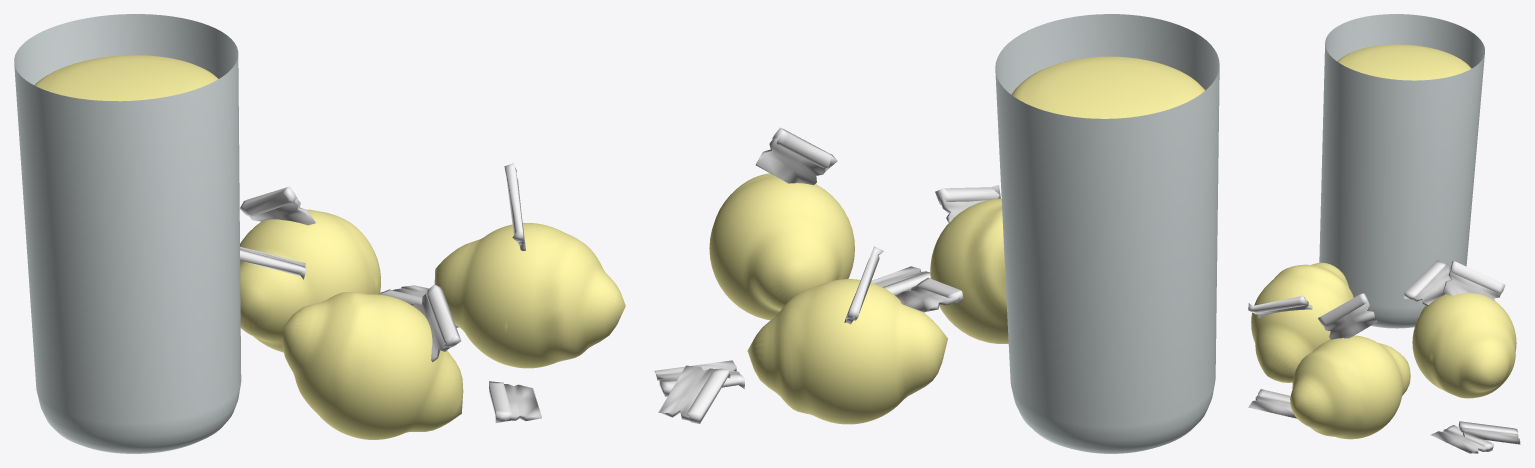
The model's file is whenlifegivesyoulemons.glb.
3 renders of one model, left to right at view 1: azimuth 30°, elevation 25°; view 2: azimuth 150°, elevation 25°; view 3: azimuth 270°, elevation 25°, orthographic. The views are drawn at different scales.
Parts seen in each view (by area): view 1: lemons; view 2: lemons; view 3: lemons.
Part boxes in pixels (bbox=[...]): lemons: bbox=[14, 14, 625, 453]; lemons: bbox=[654, 14, 1219, 453]; lemons: bbox=[1248, 14, 1520, 453].
Size of the model in its own units: 105 by 73.51 by 65.56.
